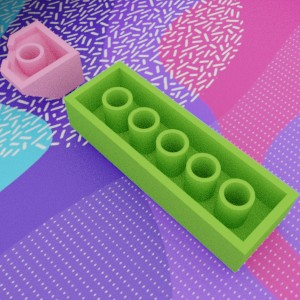lego: (63, 60, 300, 273), (0, 20, 84, 99)
